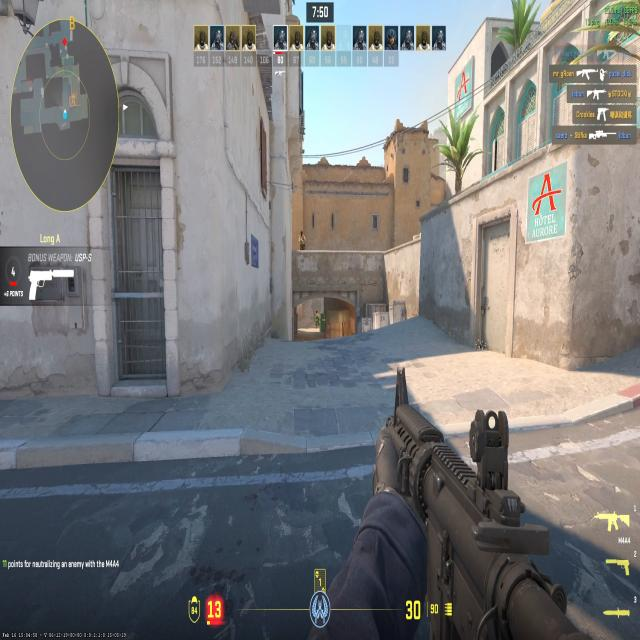player: (298, 229, 307, 253), (312, 310, 321, 328)
